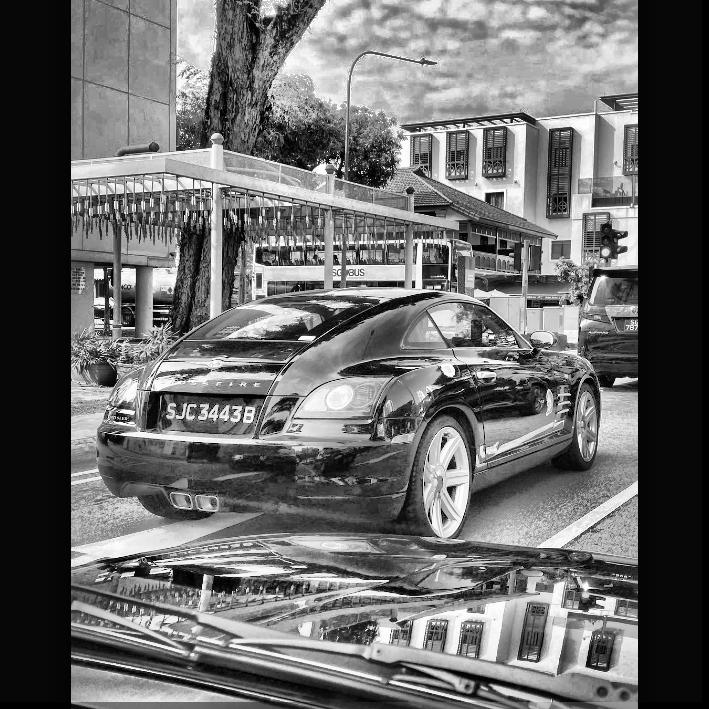License-Plates: (159, 393, 260, 433), (624, 318, 636, 330)
